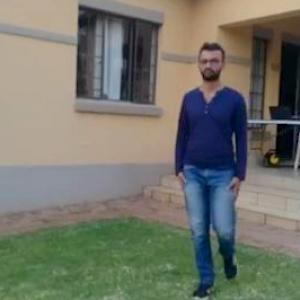follow: (174, 51, 246, 275)
